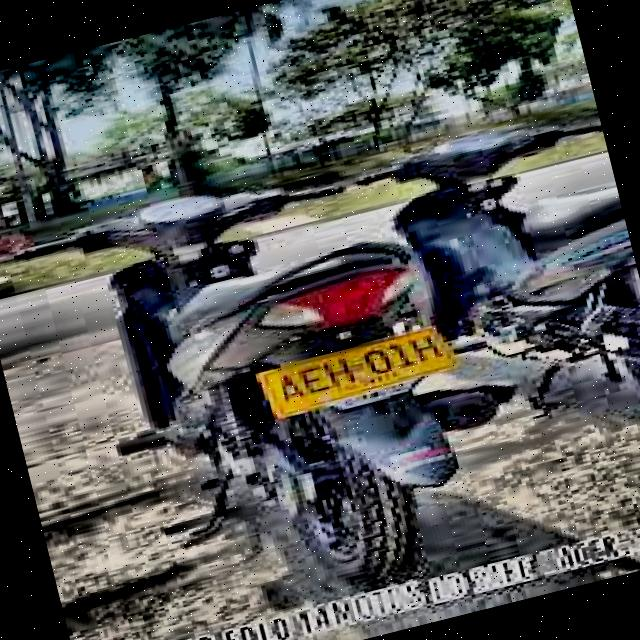plate: (261, 329, 455, 415)
